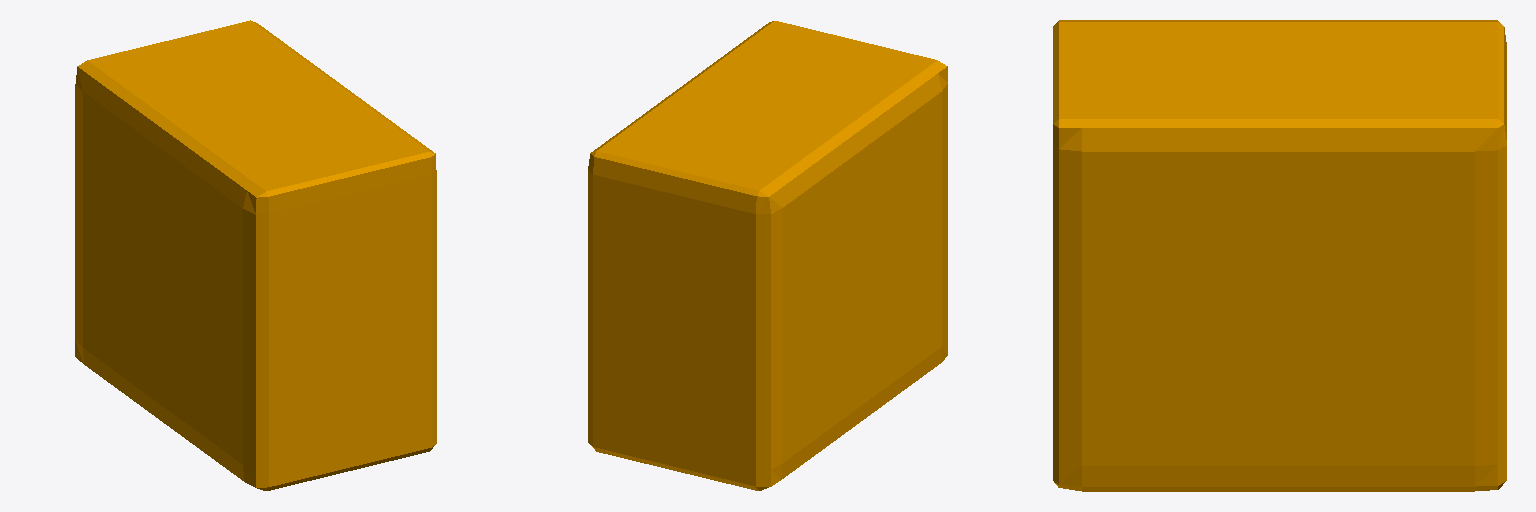
The robot description file, URDF, robot "cylinder_box_41":
<?xml version="1.0" encoding="utf-8"?>  <robot name="cylinder_box_41">   <link name="cylinder_box_41">     <visual>       <geometry>         <mesh filename="../meshes/box/box_41.stl" scale="1 1 1"/>       </geometry>     </visual>     <collision>       <geometry>         <mesh filename="../meshes/box/box_41.stl" scale="1 1 1"/>       </geometry>     </collision>     <inertial>        <origin         xyz="0 0 0"         rpy="0 0 0" />       <mass value="0.4962044342716373"/>       <origin rpy="0 0 0" xyz="0 0 0"/>       <inertia ixx="0.0007167058261072433" ixy="-5.6726231836687186e-08" ixz="1.362412627115665e-07" iyy="0.0004567158576085284" iyz="2.6394436363079975e-07" izz="0.0005295972481508559"/>     </inertial>   </link>  </robot>

--- Render facts (derived) ---
3 views of the same robot in one strip: view 1: azimuth 30°, elevation 25°; view 2: azimuth 150°, elevation 25°; view 3: azimuth 270°, elevation 25° (orthographic).
Model cylinder_box_41 with 1 links and 0 joints (none), rooted at cylinder_box_41, posed every joint at zero.
Links seen in each view (by area): view 1: cylinder_box_41; view 2: cylinder_box_41; view 3: cylinder_box_41.
Link boxes in pixels (x1,y1,x2,y2): cylinder_box_41: (75,20,436,490); cylinder_box_41: (588,21,947,490); cylinder_box_41: (1053,20,1506,491).
Bounding box of the posed robot: 0.0575 × 0.0982 × 0.0887 m (x, y, z).
1 mesh visuals loaded from 1 distinct referenced files (1 binary STL).